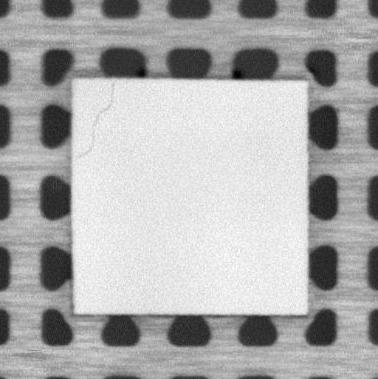DIE_CRACK: (78, 82, 114, 159)
